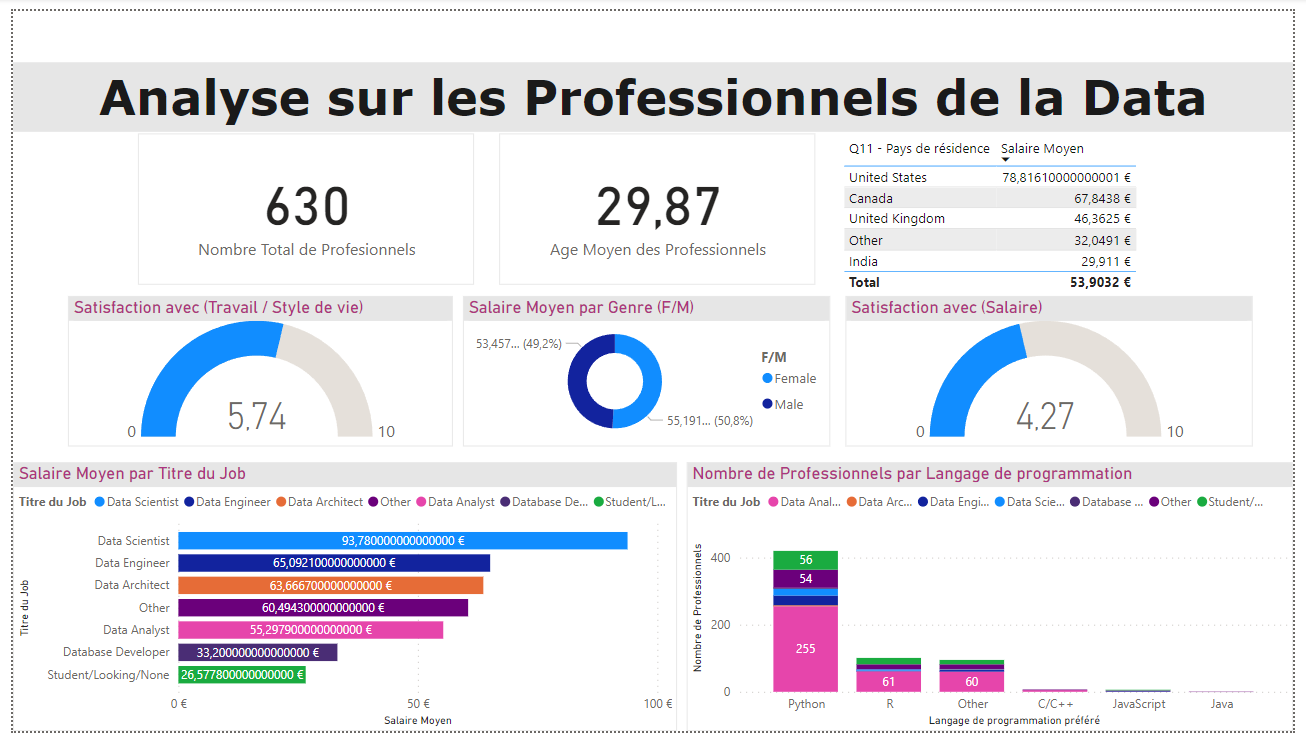

This screenshot's page, from the dashboard's own definition file:
{"tool":"powerbi","page":{"name":"Page 1","canvas":[1280,720],"ordinal":0},"visuals":[{"type":"textbox","box":[0,51.5,1280.3,69.6],"z":0},{"type":"card","fields":{"Values":["Count(Data Professional Survey.Num ID)"]},"box":[219.4,121.1,230,115],"z":1},{"type":"card","fields":{"Values":["Avg(Data Professional Survey.Q10 - Age Actuel)"]},"box":[464.6,121.1,278.5,115],"z":2},{"type":"barChart","title":"Salaire Moyen par Titre du Job","fields":{"Category":["Data Professional Survey.Q1 - Title qui décrit votre Job le plus"],"Series":["Data Professional Survey.Q1 - Title qui décrit votre Job le plus"],"Y":["Avg(Data Professional Survey.Salaire Moyen)"]},"box":[24.2,423.7,649.2,296.6],"z":3},{"type":"columnChart","title":"Nombre de Professionnels par Langage de programmation","fields":{"Category":["Data Professional Survey.Q5 - Langage de programmation préféré"],"Y":["Count(Data Professional Survey.Num ID)"],"Series":["Data Professional Survey.Q1 - Title qui décrit votre Job le plus"]},"box":[673.4,451,606.9,269.4],"z":4},{"type":"tableEx","fields":{"Values":["Data Professional Survey.Q11 - Pays de résidence","Avg(Data Professional Survey.Salaire Moyen)"]},"box":[790,121.1,345,166.5],"z":5},{"type":"gauge","title":"Satisfaction avec (Travail / Style de vie)","fields":{"Y":["Avg(Data Professional Survey.Q6 - Combien vous êtes heureux avec ? (Travail/Style de vie))"],"MinValue":["Min(Data Professional Survey.Q6 - Combien vous êtes heureux avec ? (Travail/Style de vie))"],"MaxValue":["Max(Data Professional Survey.Q6 - Combien vous êtes heureux avec ? (Travail/Style de vie))"]},"box":[54.5,273.9,329.9,134.7],"z":6},{"type":"gauge","title":"Satisfaction avec (Salaire)","fields":{"Y":["Avg(Data Professional Survey.Q6 - Combien vous êtes heureux avec ? (Salaire))"],"MinValue":["Min(Data Professional Survey.Q6 - Combien vous êtes heureux avec ? (Salaire))"],"MaxValue":["Max(Data Professional Survey.Q6 - Combien vous êtes heureux avec ? (Salaire))1"]},"box":[868.7,287.5,411.6,136.2],"z":7},{"type":"donutChart","title":"Salaire Moyen par Genre (F/M)","fields":{"Series":["Data Professional Survey.Q9 - Male/Female?"],"Y":["Avg(Data Professional Survey.Salaire Moyen)"]},"box":[440.4,258.8,325.4,165],"z":8}]}

Visuals, with their boxes in screenshot pixels (x1, y1, x2, y2), scaled from the page's 1280x720 canvas onto the 1306x746 screenshot:
textbox: [left=0, top=53, right=1305, bottom=125]
card - Count(Data Professional Survey.Num ID): [left=224, top=125, right=459, bottom=245]
card - Avg(Data Professional Survey.Q10 - Age Actuel): [left=474, top=125, right=758, bottom=245]
"Salaire Moyen par Titre du Job" barChart: [left=25, top=439, right=687, bottom=745]
"Nombre de Professionnels par Langage de programmation" columnChart: [left=687, top=467, right=1305, bottom=745]
tableEx - Data Professional Survey.Q11 - Pays de résidence x Avg(Data Professional Survey.Salaire Moyen): [left=806, top=125, right=1158, bottom=298]
"Satisfaction avec (Travail / Style de vie)" gauge: [left=56, top=284, right=392, bottom=423]
"Satisfaction avec (Salaire)" gauge: [left=886, top=298, right=1305, bottom=439]
"Salaire Moyen par Genre (F/M)" donutChart: [left=449, top=268, right=781, bottom=439]
